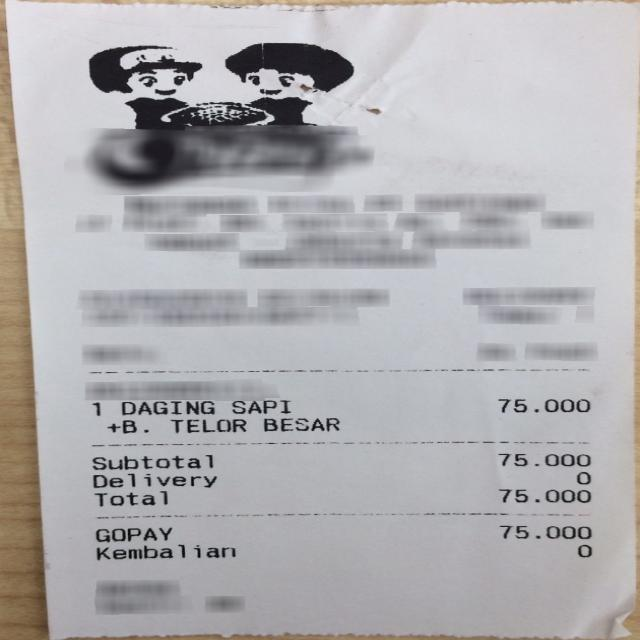text: (94, 542, 233, 560), (90, 453, 216, 469), (90, 472, 216, 488), (499, 524, 589, 539), (120, 400, 213, 414), (497, 398, 588, 412), (498, 452, 589, 466), (498, 488, 589, 502), (261, 416, 338, 432), (94, 526, 170, 542), (170, 417, 244, 432), (92, 490, 166, 505), (230, 399, 288, 414), (105, 418, 146, 432), (576, 543, 592, 558), (88, 401, 102, 415)
